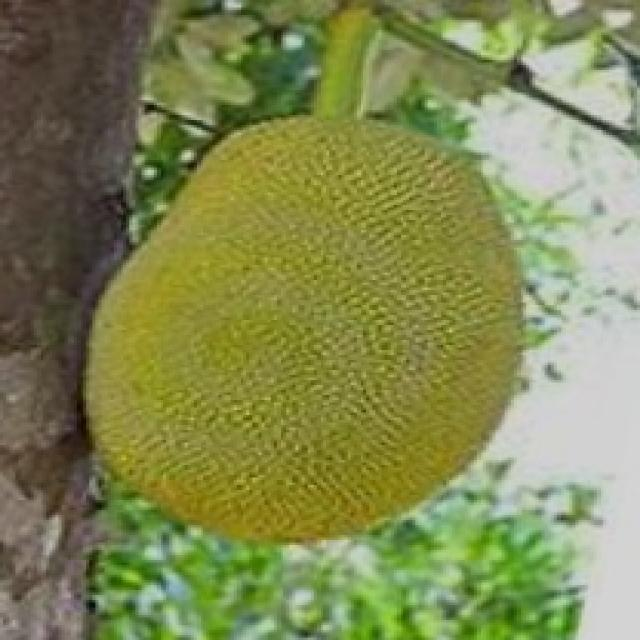Fruit: (132, 85, 557, 377)
